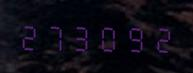nine: (122, 20, 147, 53)
seven: (43, 19, 68, 52)
three: (70, 19, 95, 52)
two: (17, 18, 42, 52), (148, 20, 173, 54)
zero: (96, 19, 121, 53)
